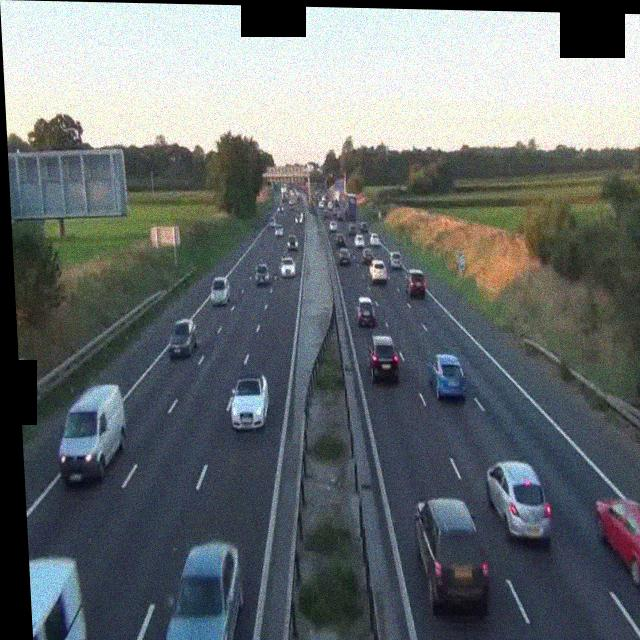car: (413, 498, 491, 614), (159, 539, 245, 640), (56, 382, 129, 486), (486, 461, 553, 542), (29, 556, 88, 640), (595, 496, 640, 592), (228, 374, 271, 431), (427, 352, 466, 400), (367, 334, 400, 383), (168, 316, 200, 359), (208, 274, 232, 306), (355, 296, 377, 327), (405, 268, 427, 297), (370, 260, 387, 286), (256, 262, 271, 285), (281, 258, 296, 280), (389, 253, 404, 269), (338, 247, 351, 265), (288, 234, 300, 252), (359, 246, 372, 262), (353, 233, 366, 249), (369, 232, 381, 246), (273, 221, 283, 236), (330, 222, 340, 234), (295, 211, 304, 224), (267, 216, 276, 228)
truck: (347, 196, 360, 224)
